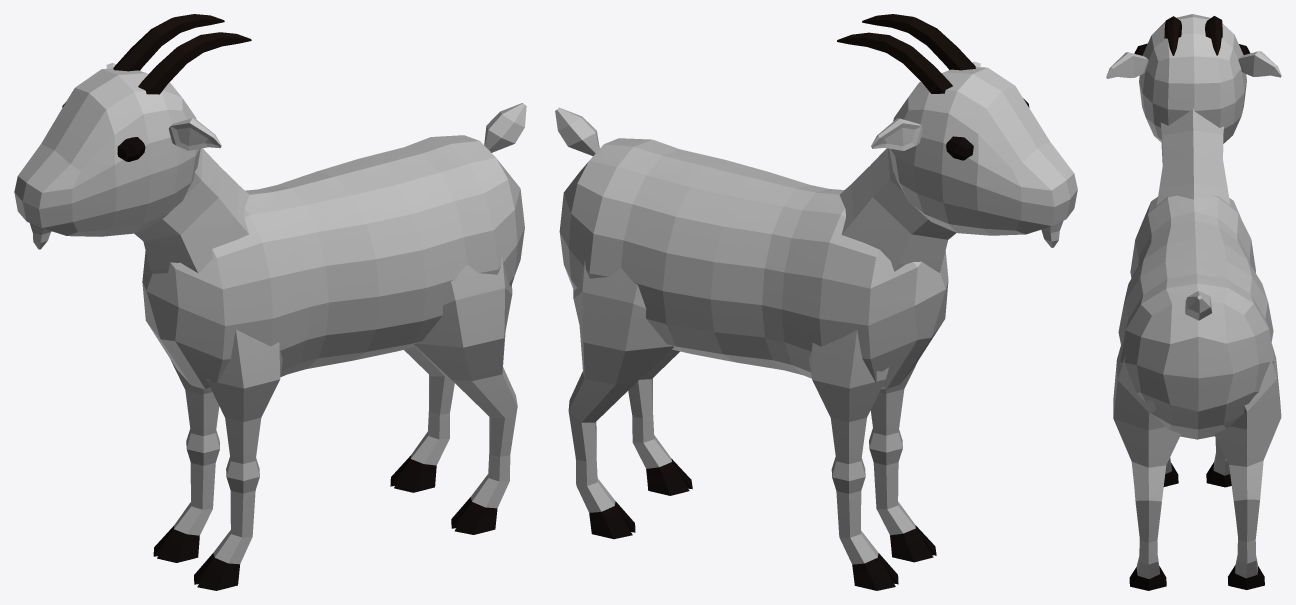
File: FBX_Goat.fbx
3 views of the same model, side by side, from view 1: azimuth 30°, elevation 25°; view 2: azimuth 150°, elevation 25°; view 3: azimuth 270°, elevation 25° (orthographic). The views are drawn at different scales.
Visible parts, largest first — view 1: M_Goat; view 2: M_Goat; view 3: M_Goat.
Part boxes in pixels (bbox=[...]): M_Goat: bbox=[14, 14, 526, 590]; M_Goat: bbox=[555, 14, 1077, 590]; M_Goat: bbox=[1106, 14, 1281, 590].
Bounding box in the file's own units: 0.6583 × 0.67 × 0.2337.
